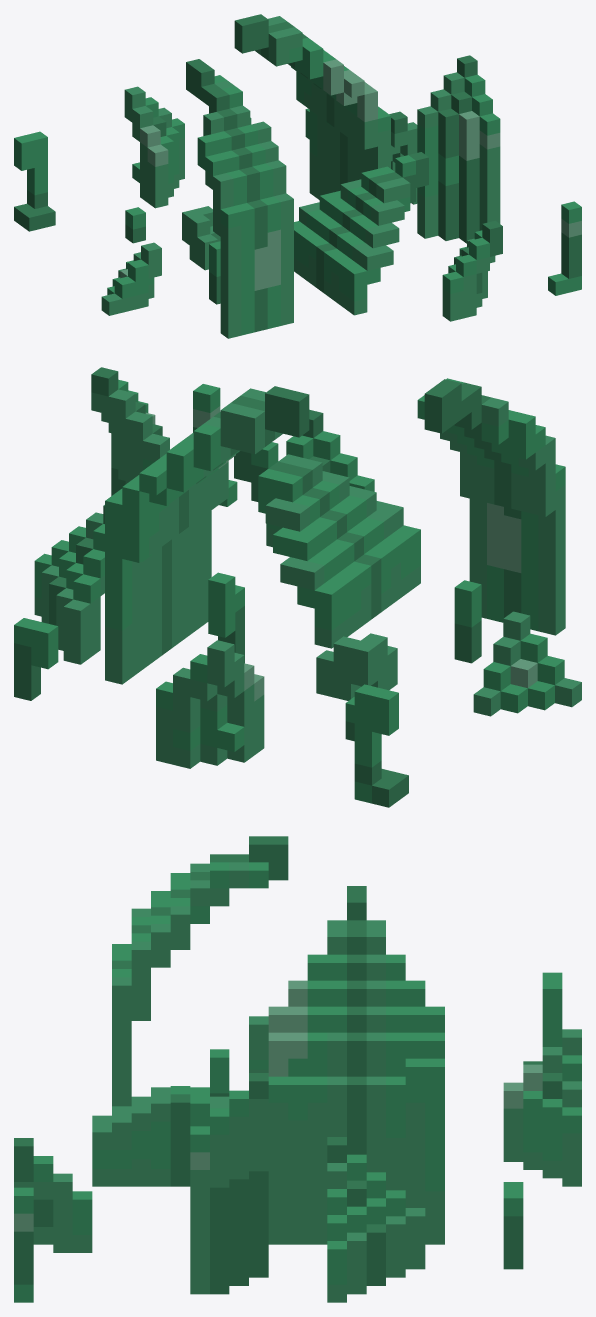
File: grass_big.fbx
3 renders of one model, top to bottom at view 1: azimuth 30°, elevation 25°; view 2: azimuth 150°, elevation 25°; view 3: azimuth 270°, elevation 25°, orthographic. The views are drawn at different scales.
Parts seen in each view (by area): view 1: leaves; view 2: leaves; view 3: leaves.
Part boxes in pixels (x1=…): leaves: x1=14, y1=14, x2=581, y2=338; leaves: x1=14, y1=367, x2=581, y2=807; leaves: x1=14, y1=836, x2=581, y2=1302.
Bounding box in the file's own units: 29 × 16 × 29.
